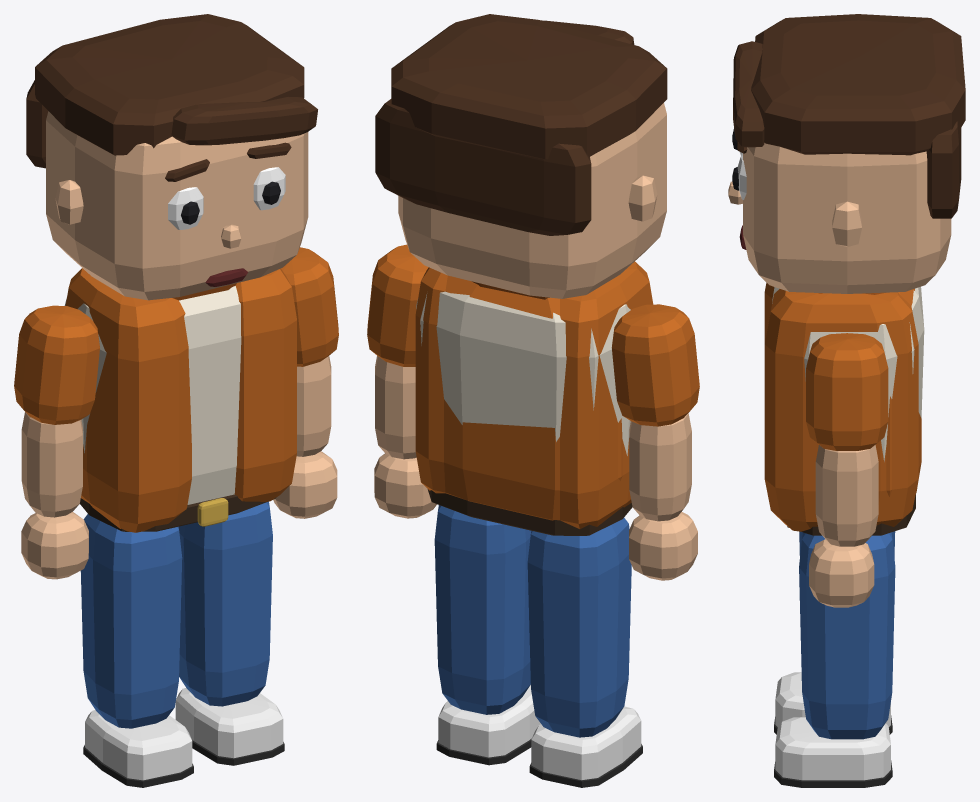
The model's file is hero-a.glb.
3 views of the same model, side by side, from view 1: azimuth 30°, elevation 25°; view 2: azimuth 150°, elevation 25°; view 3: azimuth 270°, elevation 25° (orthographic). The views are drawn at different scales.
Parts seen in each view (by area): view 1: head, torso, leg-right, leg-left, arm-right, arm-left; view 2: head, torso, leg-right, leg-left, arm-right, arm-left; view 3: head, torso, leg-left, arm-left, leg-right.
Boxes of the visible parts, x1,y1,x2,y2 form: head: (26,14,317,300); torso: (64,268,296,532); leg-right: (80,514,193,787); leg-left: (175,501,284,765); arm-right: (14,305,99,579); arm-left: (273,247,338,518); head: (375,14,667,298); torso: (415,261,653,535); leg-right: (527,517,642,787); leg-left: (434,505,540,765); arm-right: (611,304,699,580); arm-left: (367,244,436,518); head: (728,14,965,293); torso: (764,282,924,535); leg-left: (774,532,895,787); arm-left: (806,333,888,607); leg-right: (774,531,895,734).
Size of the model in its own units: 1.29 by 2.73 by 0.8497.
